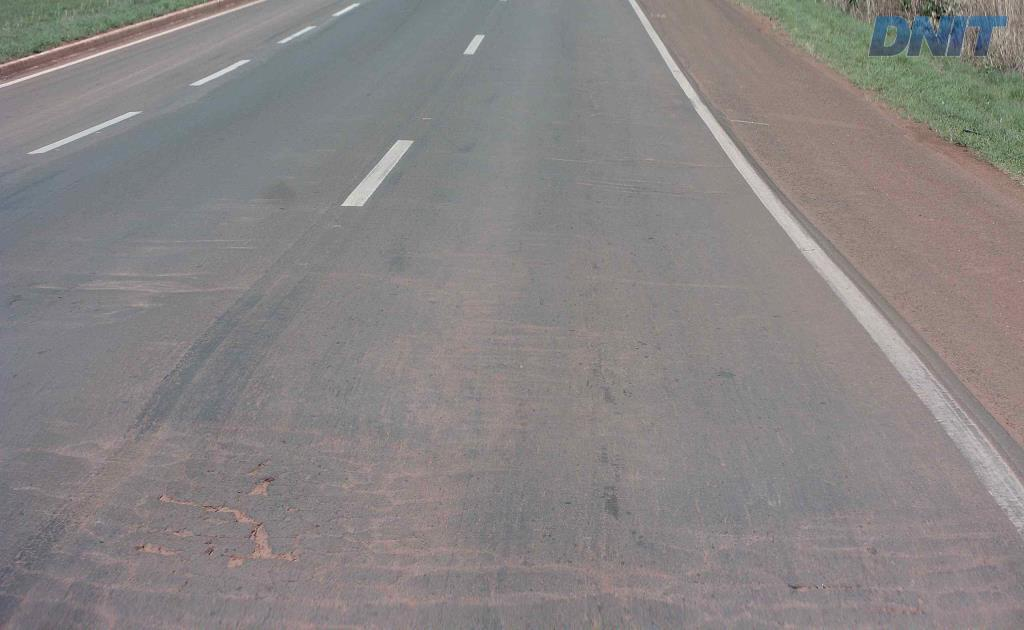pothole: (152, 491, 301, 570), (241, 468, 279, 504), (132, 540, 193, 558), (218, 552, 246, 575)
